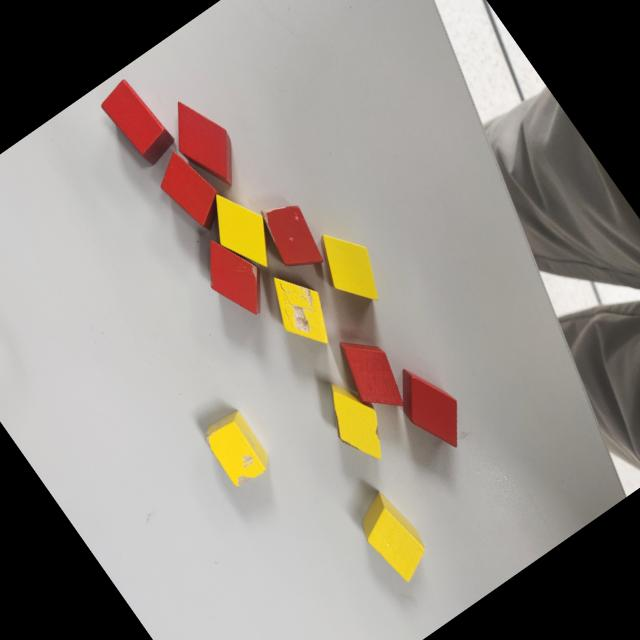broken: (187, 224, 281, 328), (311, 371, 400, 471), (257, 262, 345, 359), (196, 404, 278, 491), (252, 190, 332, 279)
red: (155, 86, 254, 198), (382, 353, 478, 459), (326, 323, 416, 423), (148, 144, 234, 238), (95, 74, 179, 169)
yellow: (347, 485, 439, 588), (196, 180, 288, 280), (304, 217, 395, 316)
